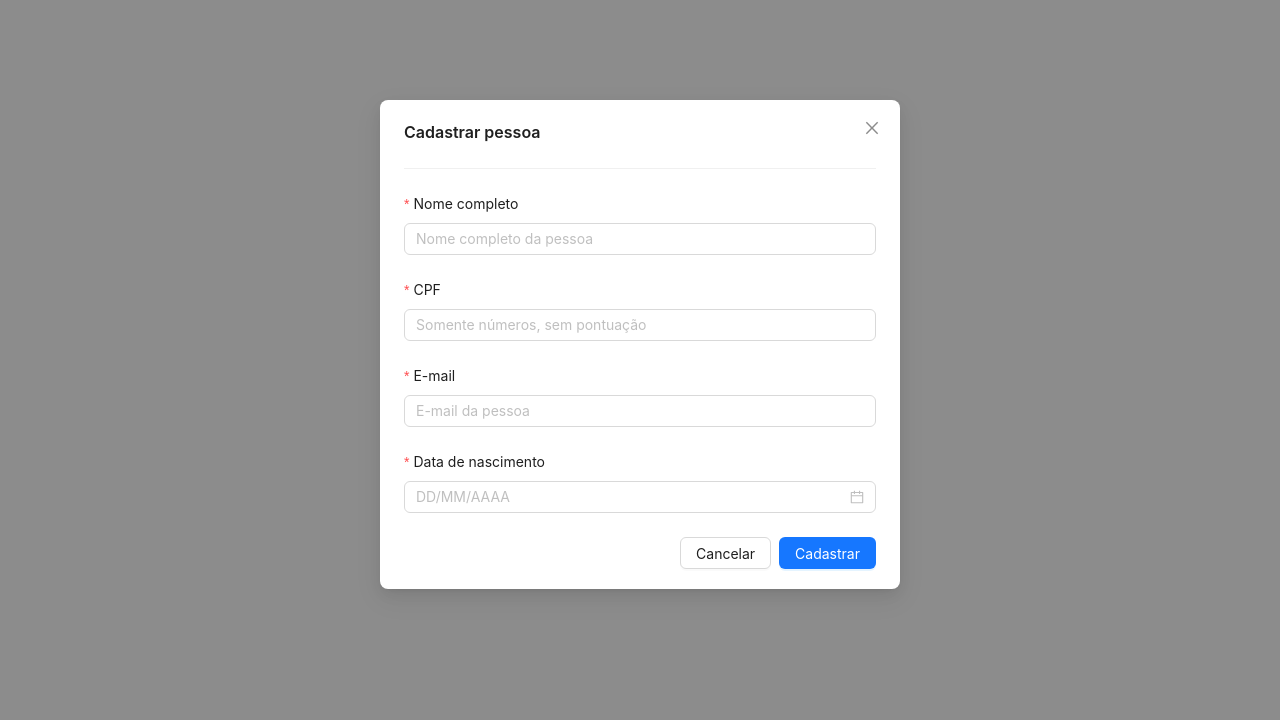
Test case: CreatePersonModal › exibe notificação de CPF duplicado ao receber 409
Type "Ana Silva" into the field labelled "Nome completo".
click(640, 239); type("Ana Silva")  # box [404,223,876,255]
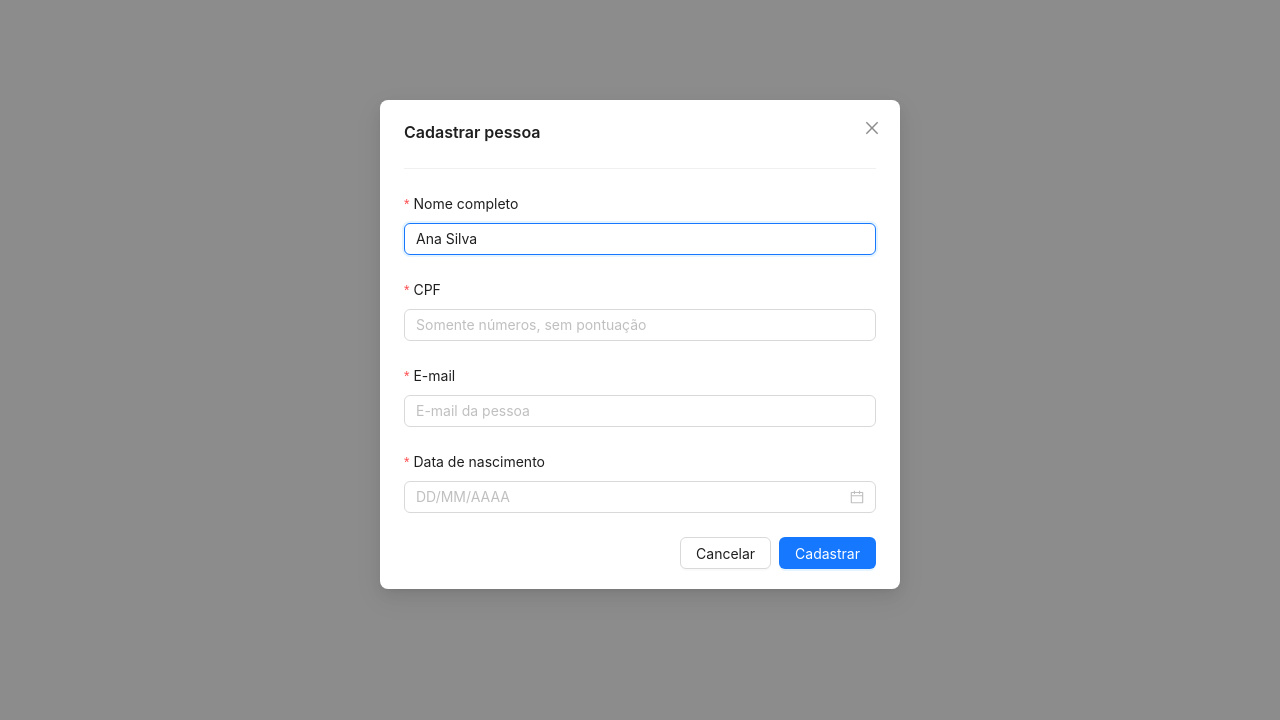
Type "52998224725" into the field labelled "CPF".
click(640, 325); type("52998224725")  # box [404,309,876,341]
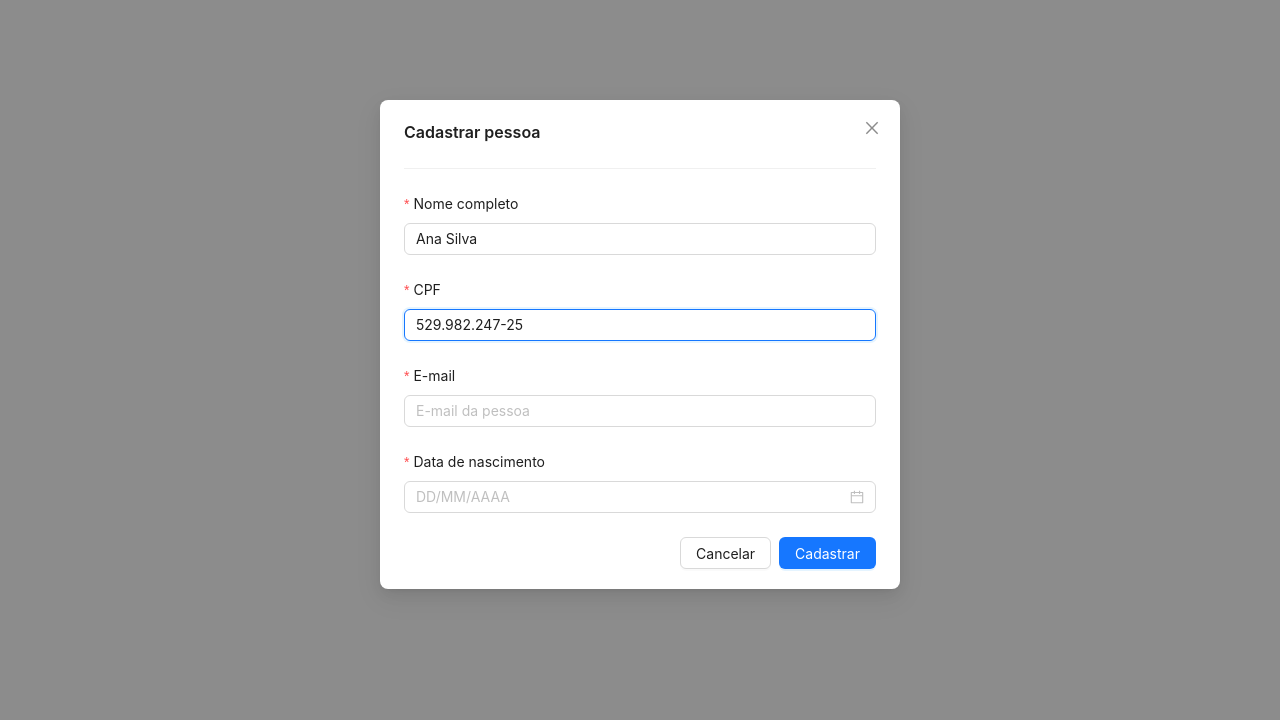
Type "ana@example.com" into the field labelled "E-mail".
click(640, 411); type("ana@example.com")  # box [404,395,876,427]
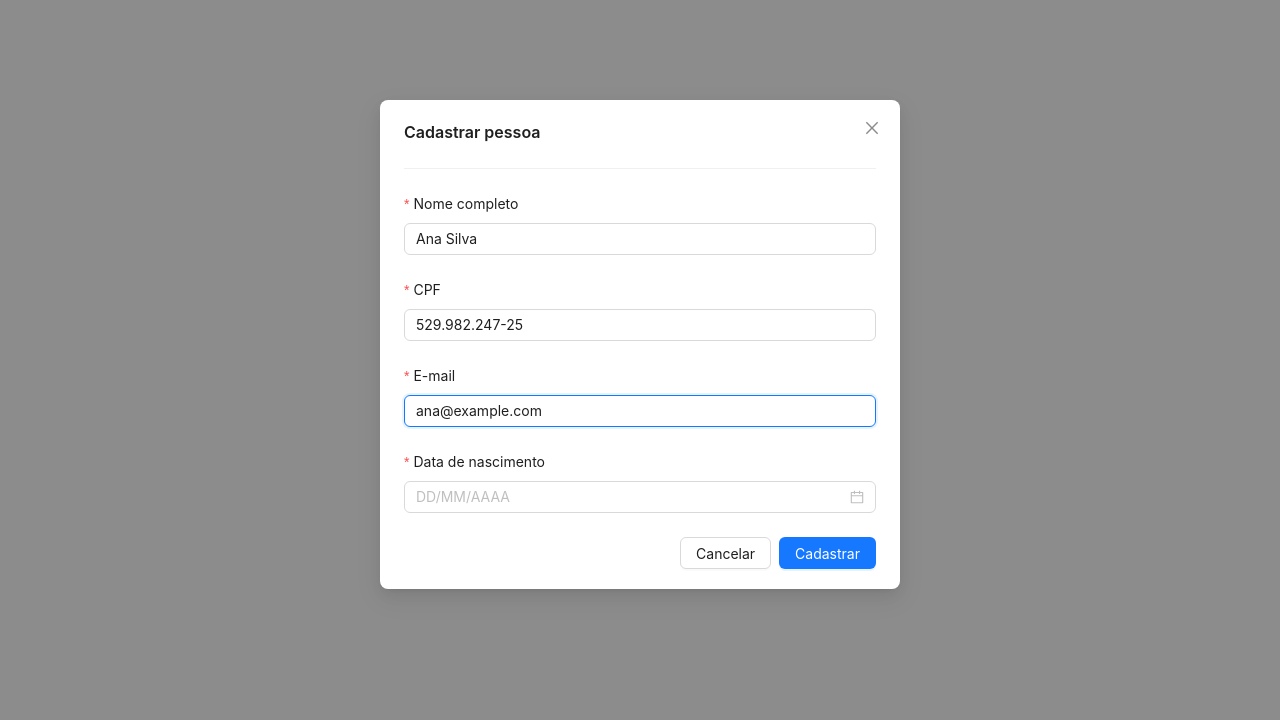
Click the field with placeholder "DD/MM/AAAA".
click(631, 497)  # box [416,486,846,508]
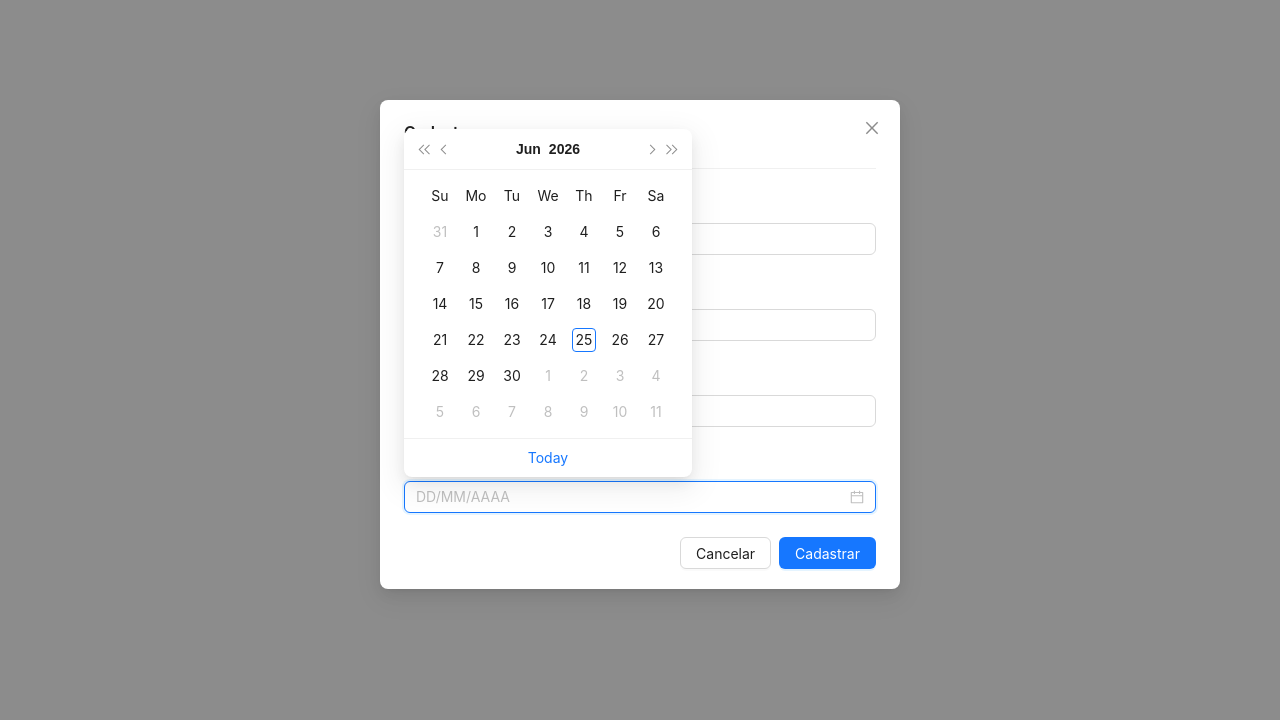
Type keys "15/03/1990{Enter}"
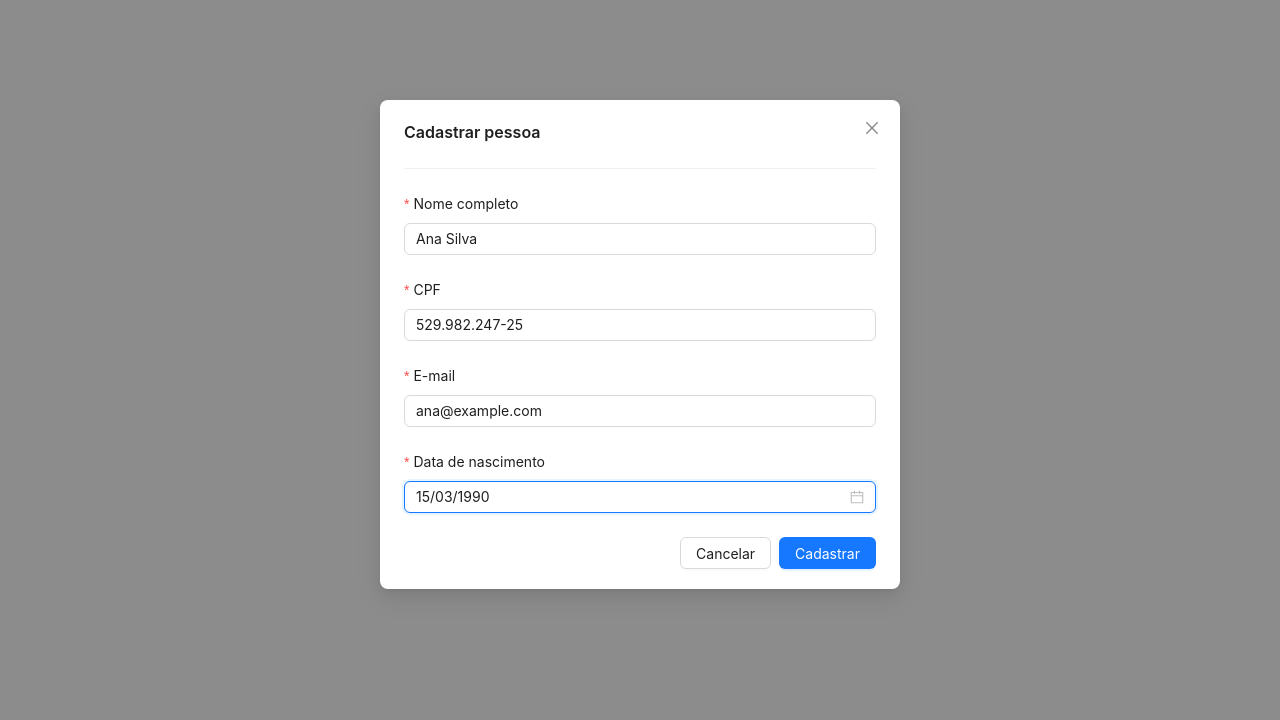
Click the button "Cadastrar".
click(828, 553)  # box [779,537,876,569]
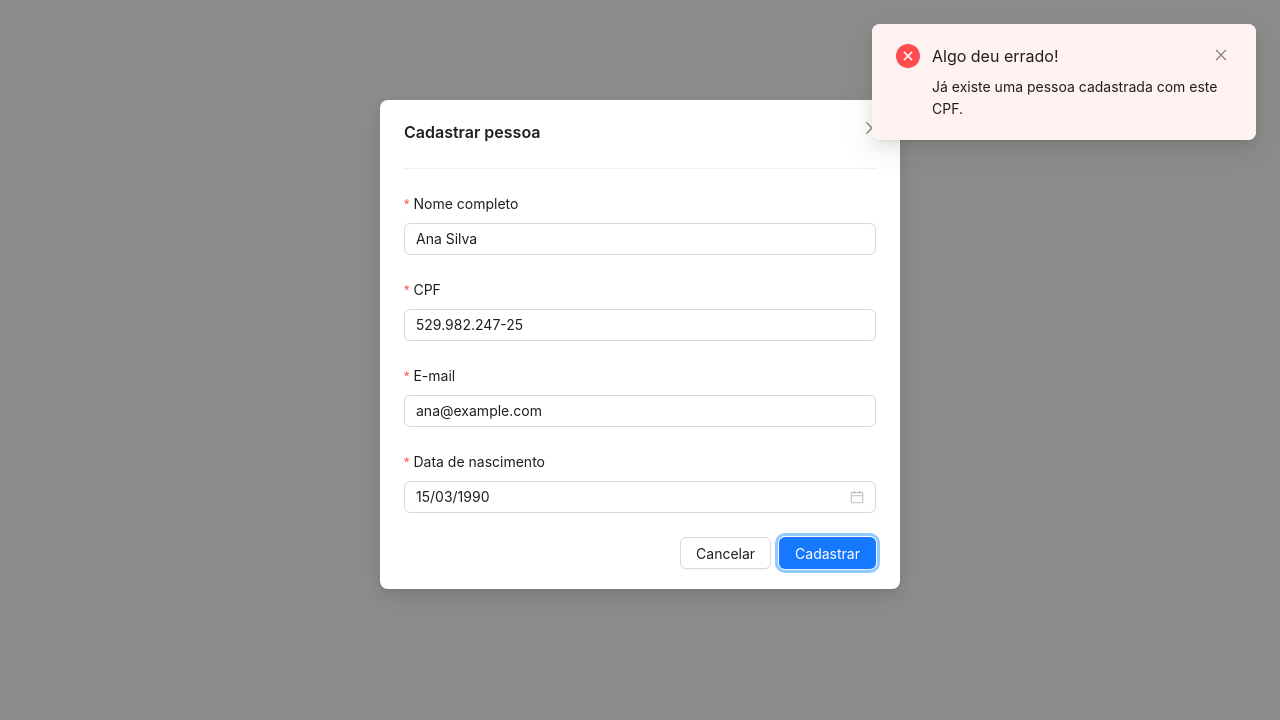
Now the text "Já existe uma pessoa cadastrada com este CPF." is shown, box [932,76,1232,120]
